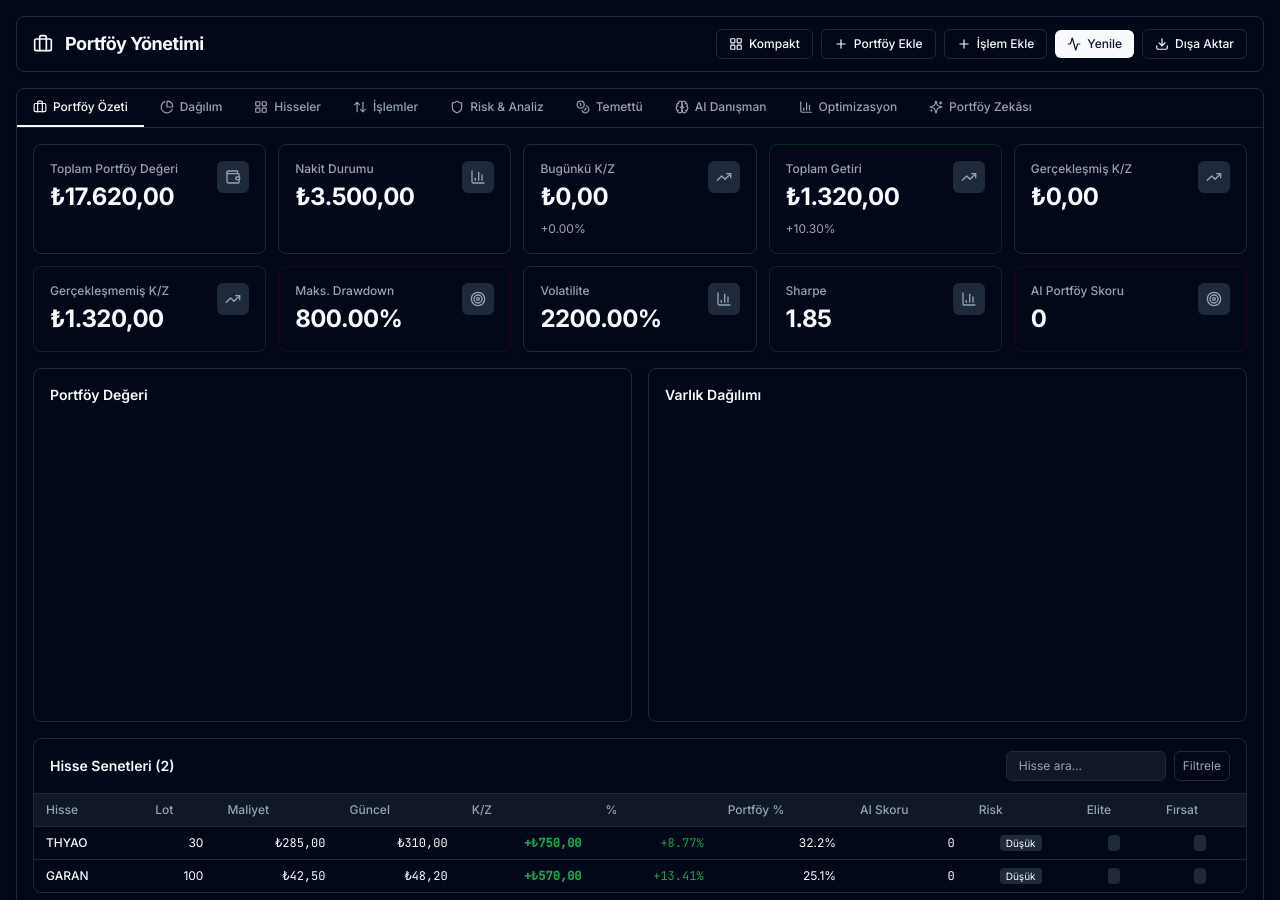
Scenario: PortfolioPage › switches to allocation tab
The image size is (1280, 900).
Click the button "Dağılım" at (191, 108), box [144,89,238,127]
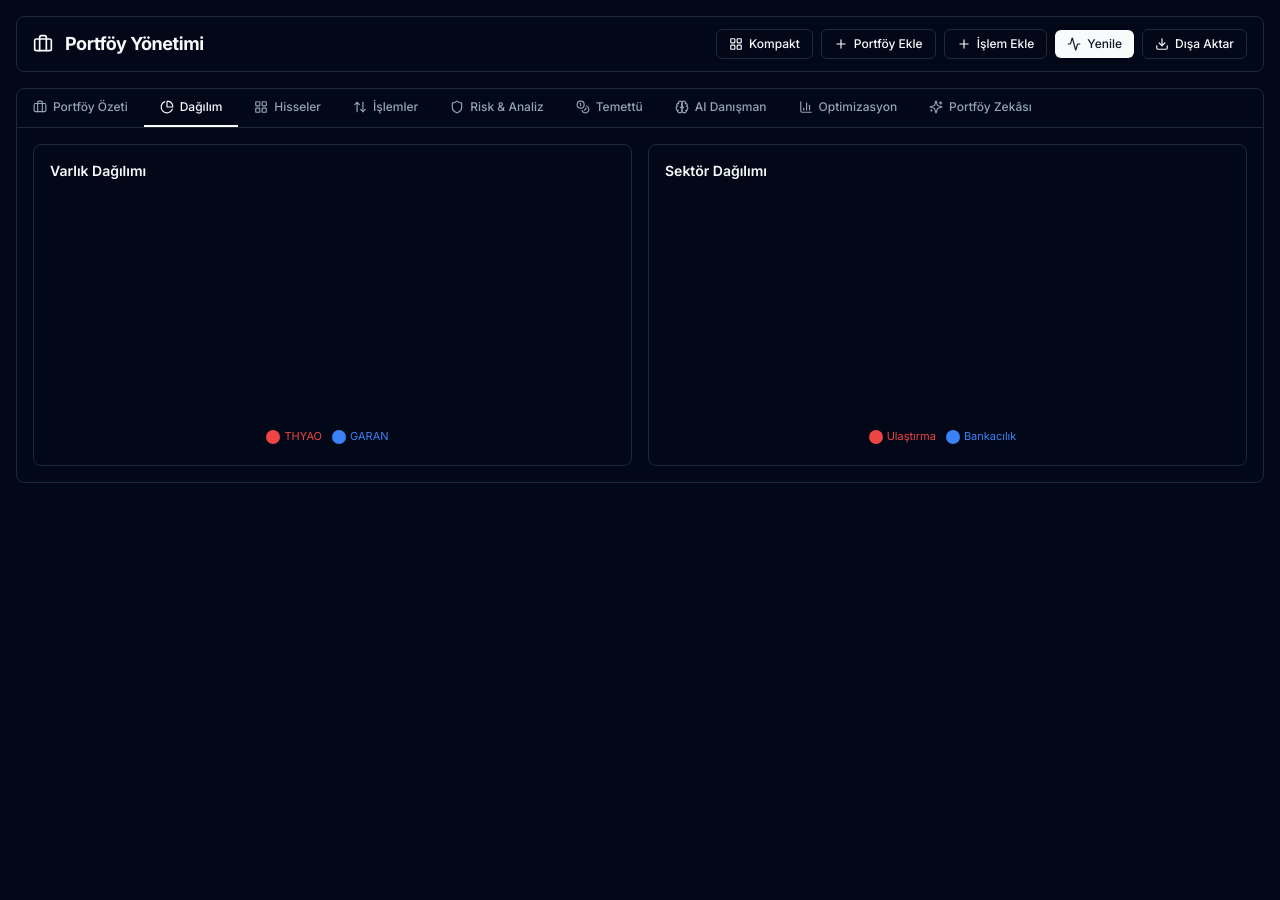
Expected: the heading "Varlık Dağılımı" is shown, [50,162,146,179]
Expected: the heading "Sektör Dağılımı" is shown, [665,162,767,179]
